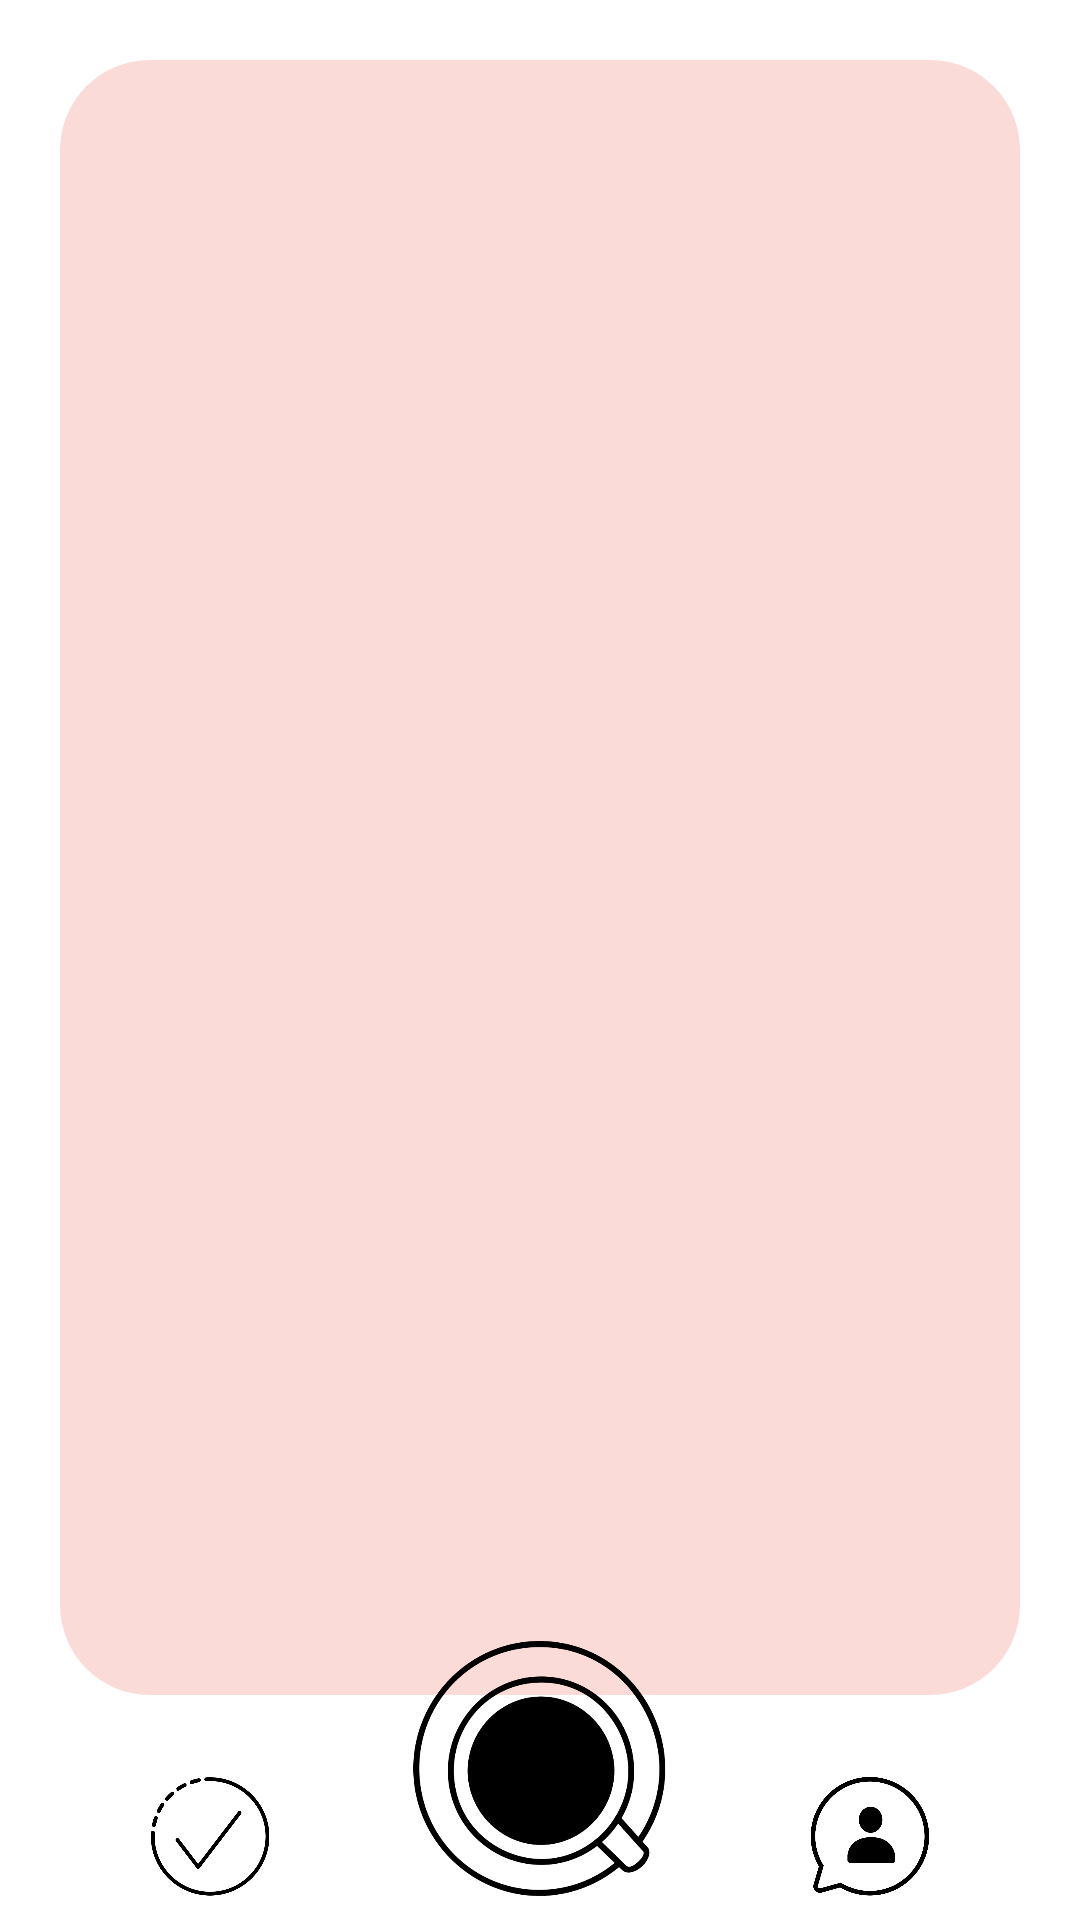

Screen size 1080 x 1920. Icon name, then its box in pixels as (x1, y1, x2, y2):
arkadaslar: (811, 1777, 929, 1896)
yapilan: (151, 1777, 269, 1896)
